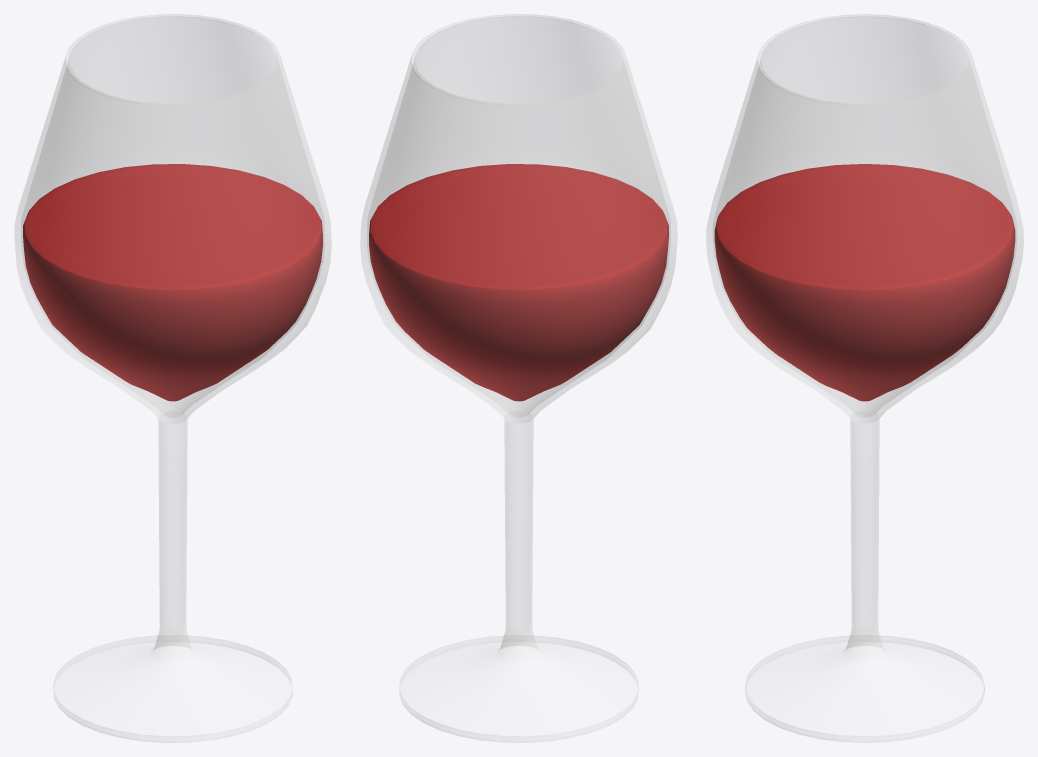
Rendered from red_wine_glass.glb.
3 views of the same model, side by side, from view 1: azimuth 30°, elevation 25°; view 2: azimuth 150°, elevation 25°; view 3: azimuth 270°, elevation 25° (orthographic).
Parts seen in each view (by area): view 1: WineGlassMerged; view 2: WineGlassMerged; view 3: WineGlassMerged.
Part boxes in pixels (bbox=[...]): WineGlassMerged: bbox=[14, 14, 331, 742]; WineGlassMerged: bbox=[360, 14, 677, 742]; WineGlassMerged: bbox=[706, 14, 1023, 742].
Size of the model in its own units: 0.0836 by 0.1836 by 0.0836.
1 material, 1 textured.
